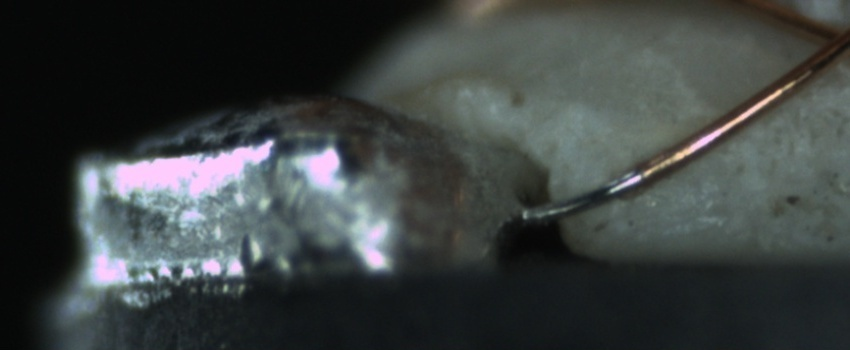CL: (800, 11, 850, 74)
TS: (523, 166, 645, 224)
TTCW: (521, 150, 676, 221)
